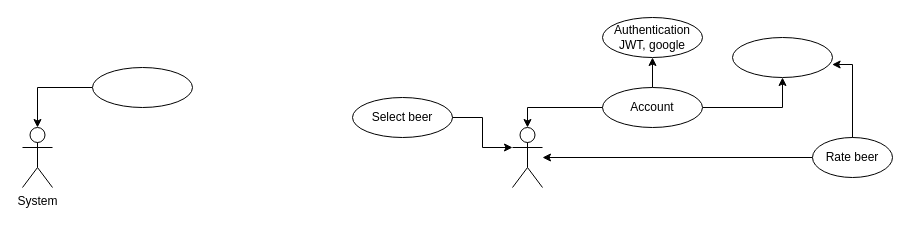
Some shapes in this 910 by 226 pixel diagram are drawn without their labels. Each missing label, with the centre of its shape:
"Common-user" goes at (x=527, y=157).
"Create, update, delete" goes at (x=782, y=57).
"seeder Beer" goes at (x=142, y=87).
